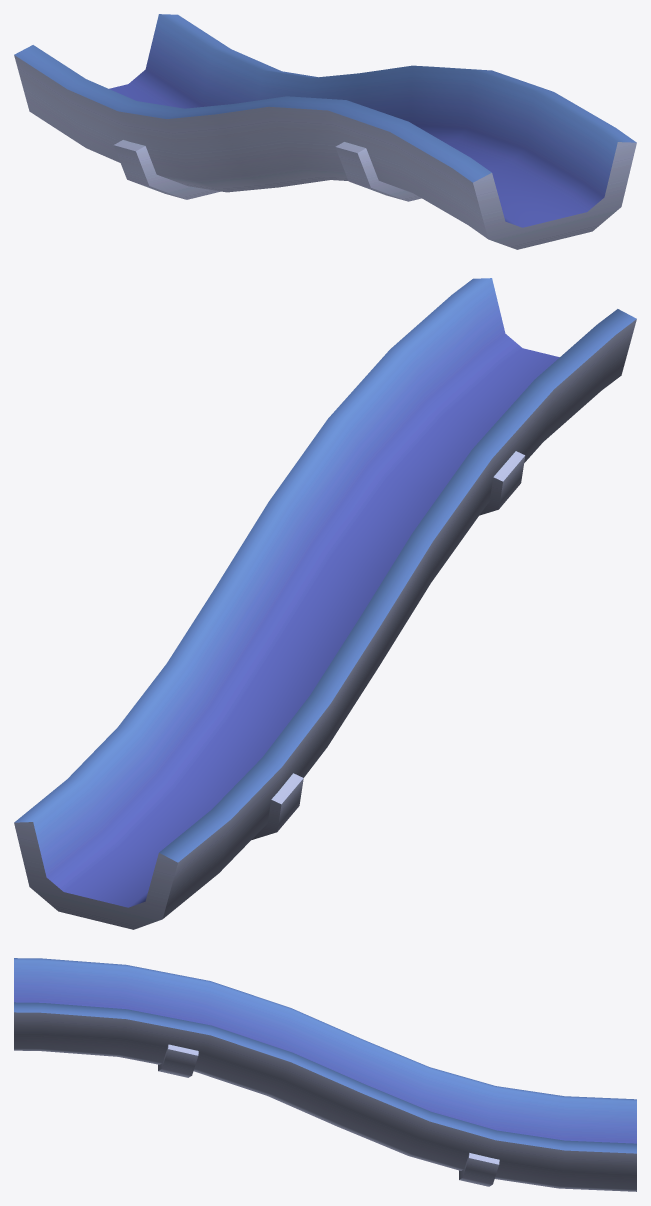
The model's file is coaster-flume-straight-hill-complete.glb.
3 views of the same model, one above another, from view 1: azimuth 30°, elevation 25°; view 2: azimuth 150°, elevation 25°; view 3: azimuth 270°, elevation 25° (orthographic). The views are drawn at different scales.
Visible parts, largest first — view 1: coaster-flume-straight-hill-complete; view 2: coaster-flume-straight-hill-complete; view 3: coaster-flume-straight-hill-complete.
Part boxes in pixels (bbox=[...]): coaster-flume-straight-hill-complete: bbox=[14, 14, 636, 249]; coaster-flume-straight-hill-complete: bbox=[14, 278, 636, 929]; coaster-flume-straight-hill-complete: bbox=[14, 958, 636, 1191].
Size of the model in its own units: 0.8448 by 1.4 by 4.
1 material, 1 textured.
